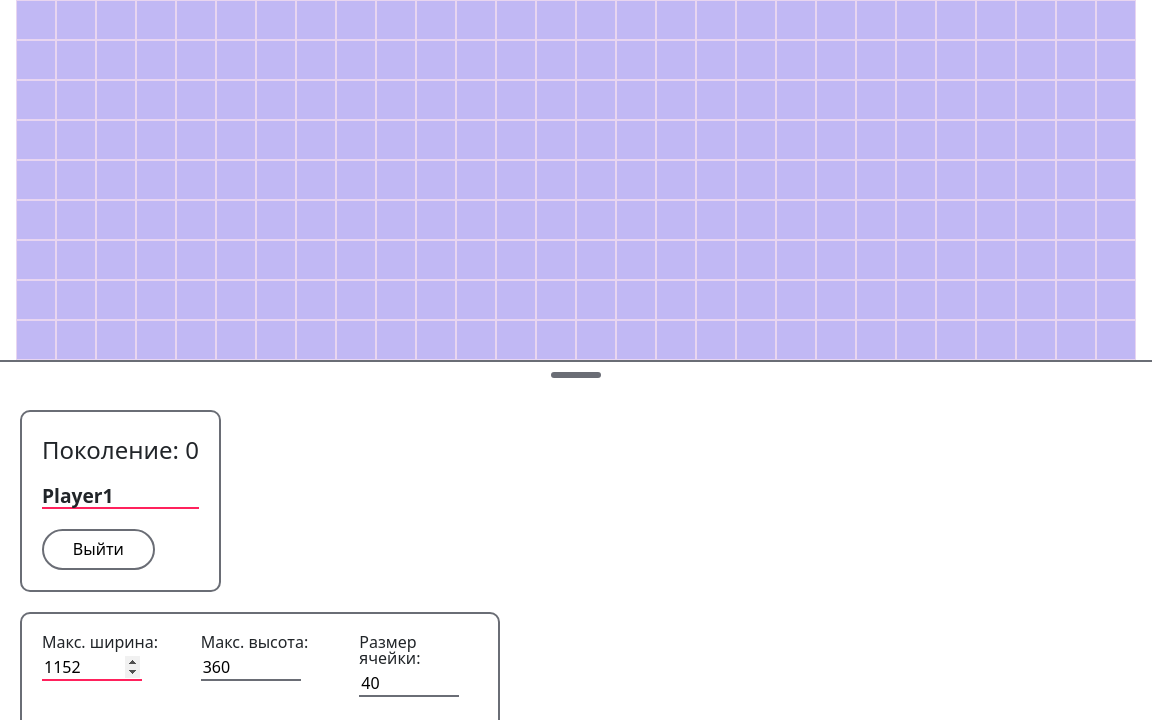
it: Routes tests › should render registration screen after player unregister
This screenshot has width=1152, height=720.
Click the button "Выйти" at (98, 549), box [42,529,155,570]
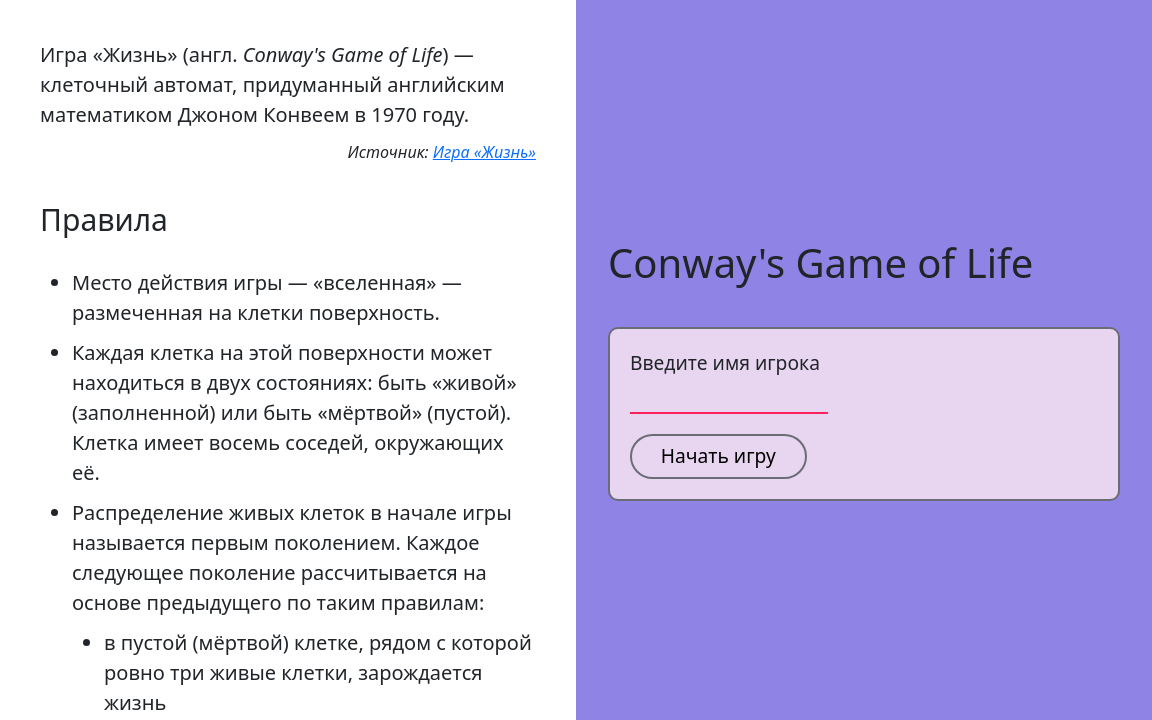
Result: the field labelled "Введите имя игрока" is shown at [630,383,828,414]
Result: the button "Начать игру" is shown at [630,434,807,479]
Result: the element with test id "gameFieldContainer" is gone
